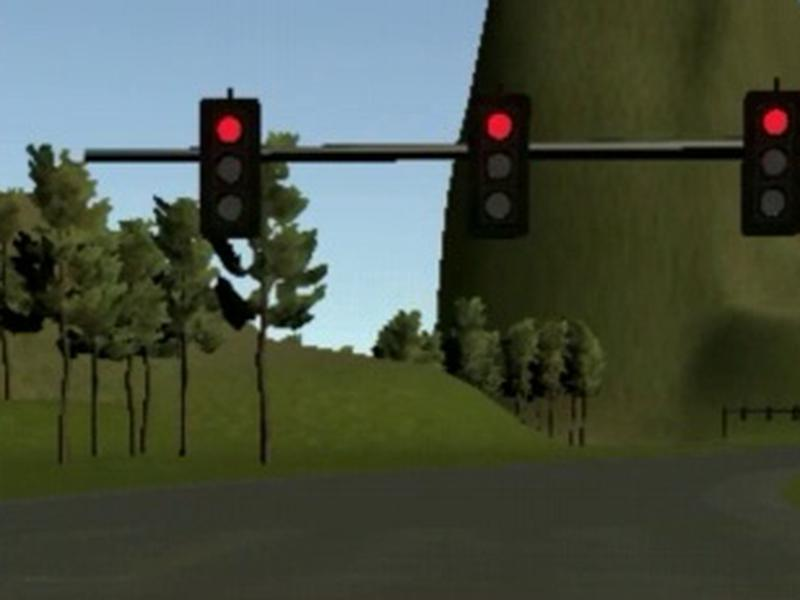Red: (468, 93, 531, 237), (740, 89, 800, 235), (199, 98, 260, 238)
